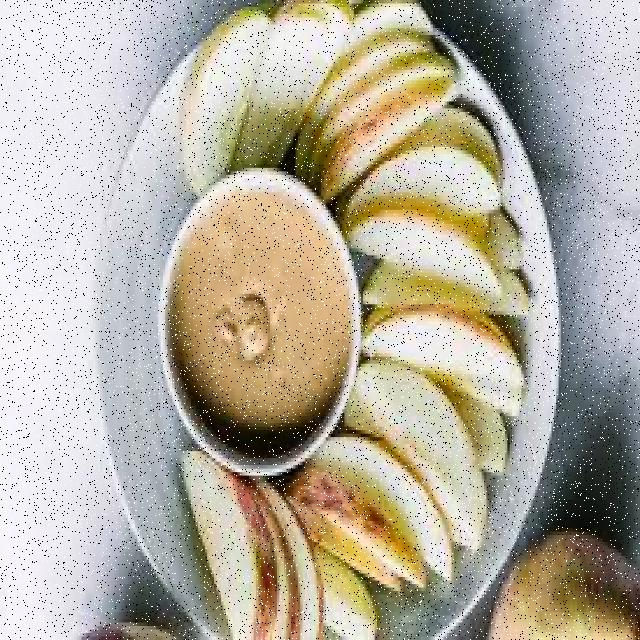Apple: (346, 362, 484, 532), (302, 441, 452, 583), (179, 455, 275, 640), (320, 80, 462, 201), (183, 12, 268, 201), (488, 532, 639, 638), (310, 29, 436, 154), (243, 0, 325, 170), (346, 204, 492, 286), (362, 313, 518, 382), (257, 476, 320, 640), (364, 263, 526, 318), (366, 146, 502, 208), (252, 487, 300, 640), (399, 104, 493, 165), (319, 559, 379, 640)
